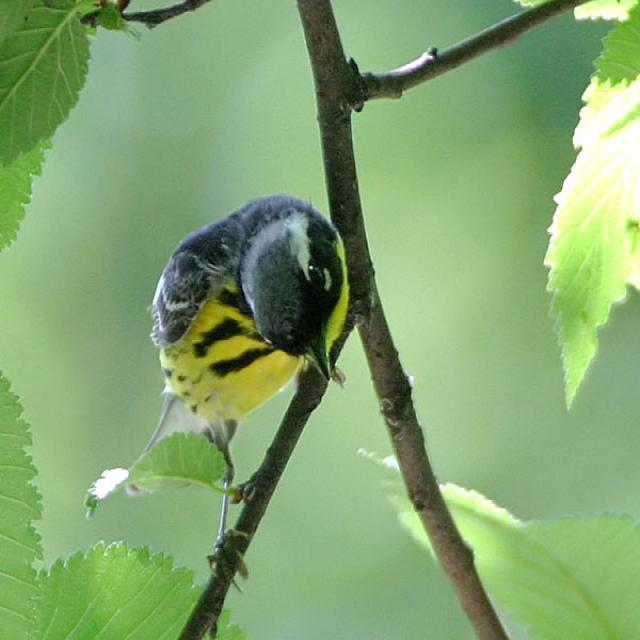bird: (150, 194, 348, 579)
